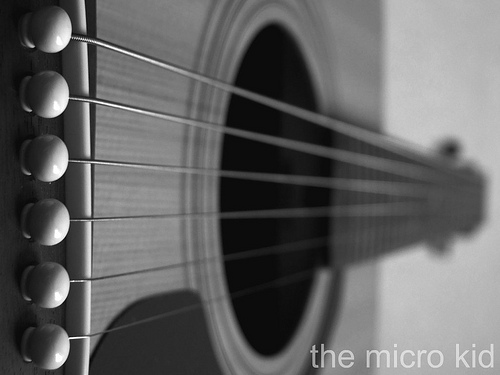guitar: (2, 1, 487, 375)
